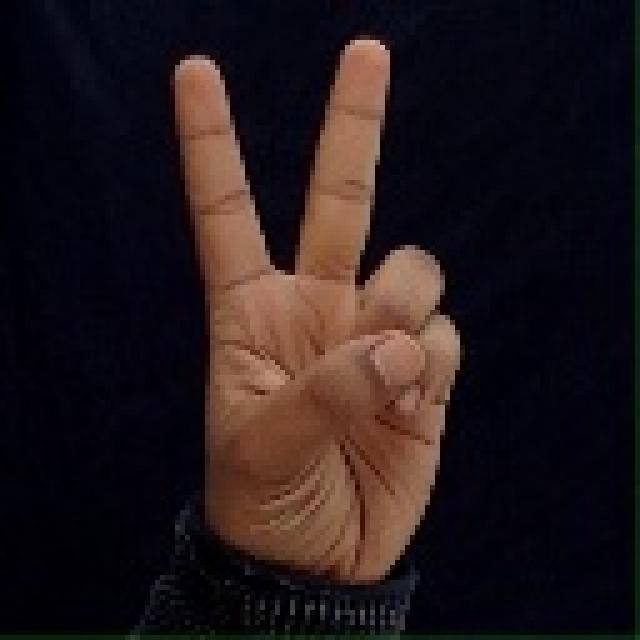No: (160, 26, 504, 640)
